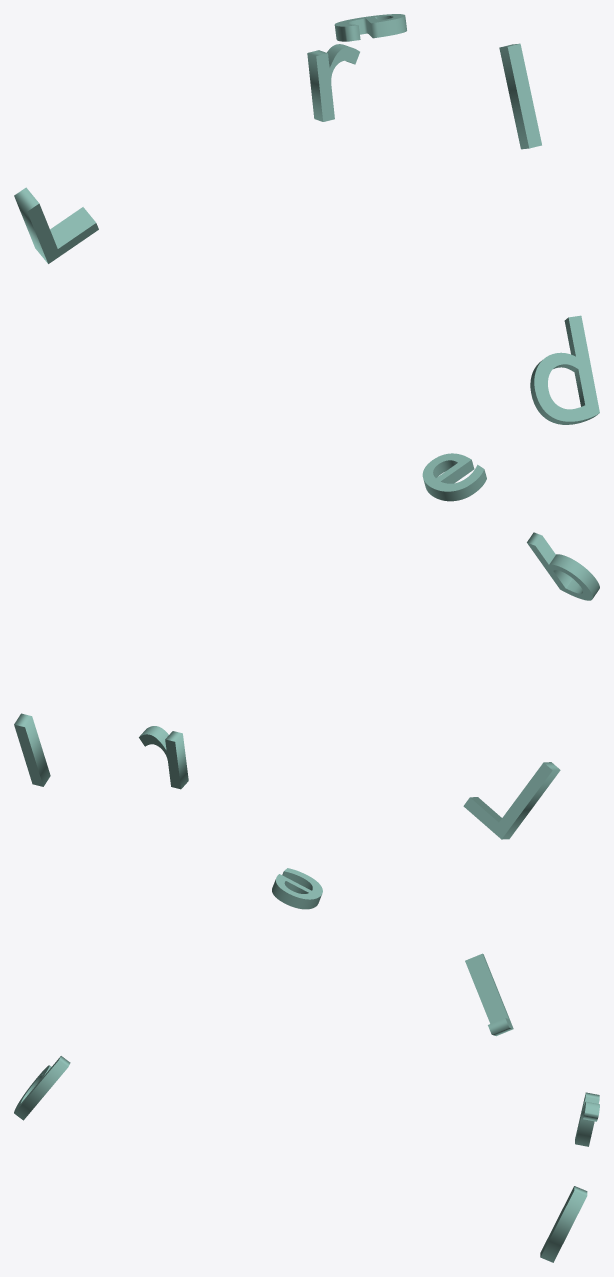
File: liberLetters.glb
3 views of the same model, one above another, from view 1: azimuth 30°, elevation 25°; view 2: azimuth 150°, elevation 25°; view 3: azimuth 270°, elevation 25° (orthographic). The views are drawn at different scales.
Visible parts, largest first — view 1: d, L, i, r, e; view 2: L, e, d, r, i; view 3: L, e, i, d, r.
Boxes of the visible parts, x1=… form: d: x1=530, y1=315, x2=599, y2=424; L: x1=14, y1=187, x2=98, y2=263; i: x1=499, y1=43, x2=541, y2=149; r: x1=307, y1=44, x2=359, y2=121; e: x1=334, y1=14, x2=406, y2=41; L: x1=463, y1=762, x2=560, y2=839; e: x1=422, y1=453, x2=486, y2=501; d: x1=527, y1=532, x2=599, y2=600; r: x1=139, y1=726, x2=188, y2=789; i: x1=14, y1=713, x2=50, y2=786; L: x1=465, y1=953, x2=513, y2=1036; e: x1=272, y1=868, x2=322, y2=909; i: x1=540, y1=1186, x2=587, y2=1262; d: x1=14, y1=1056, x2=70, y2=1120; r: x1=575, y1=1092, x2=599, y2=1146.
Size of the model in its own units: 4.27 by 2.42 by 4.92.
